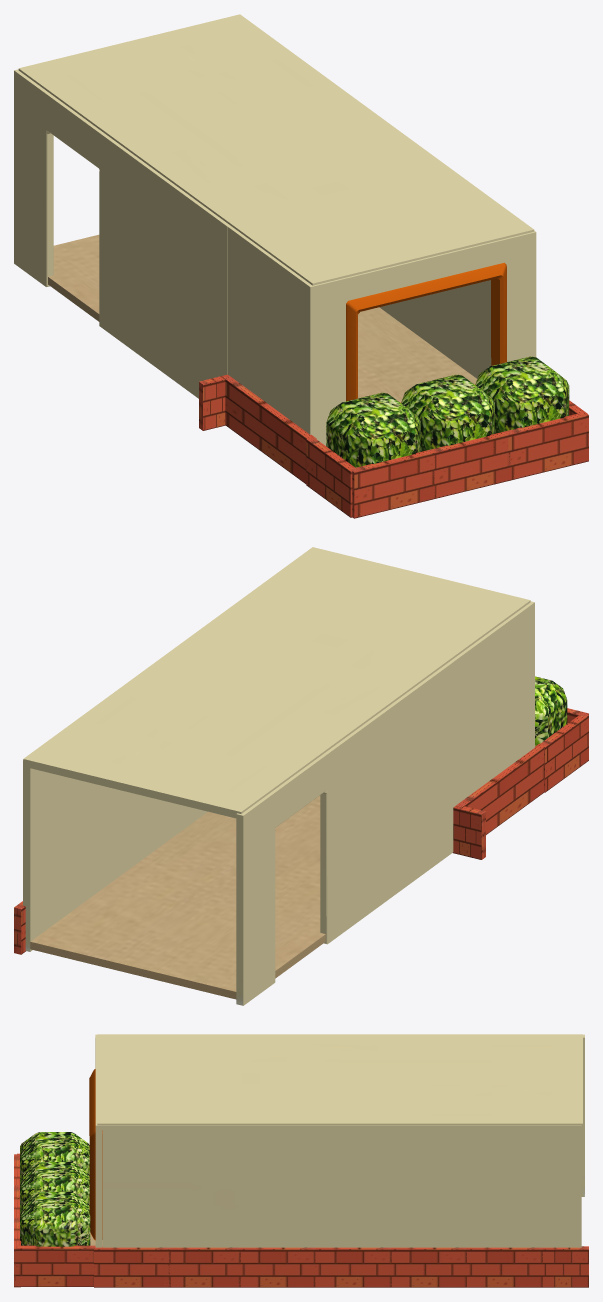
File: casa5.obj
The picture shows the model from 3 angles, top to bottom: view 1: azimuth 30°, elevation 25°; view 2: azimuth 150°, elevation 25°; view 3: azimuth 270°, elevation 25°; orthographic projection. The views are drawn at different scales.
Visible parts, largest first — view 1: pasted__pasted__pasted__pCube3 pasted__pasted__group8 pasted__gr, pasted__pasted__pCube2 pasted__group4 group6, pasted__pasted__pCube2 pasted__group4 group12, group100_pasted__group99_pasted__pasted__group95_pasted__pasted_, pasted__pasted__pCube2 pasted__group8 group11, polySurface50 pPlane2, group8 pasted__pasted__pCube2 pasted__group4, polySurface52, pasted__pCube15 group125, pCube15, pasted__pCube15 group124, pasted__pCube1 group8 (+1 smaller); view 2: pasted__pasted__pasted__pCube3 pasted__pasted__group8 pasted__gr, pasted__pasted__pCube2 pasted__group4 group6, polySurface50 pPlane2, group8 pasted__pasted__pCube2 pasted__group4, pasted__pasted__pCube2 pasted__group4 group12, polySurface52, polySurface47 pasted__group78_pasted__pasted__pCube11, pasted__pCube15 group125, pasted__group84_pasted__pCube11 group123 polySurface33; view 3: group8 pasted__pasted__pCube2 pasted__group4, pasted__pasted__pasted__pCube3 pasted__pasted__group8 pasted__gr, pasted__pCube15 group124, pasted__pasted__pasted__pCube11 pasted__pasted__group78 pasted__, polySurface39 pasted__group84_pasted__pCube11 group123, pasted__group84_pasted__pCube11 group123 polySurface36, pasted__group84_pasted__pCube11 group123 polySurface35, pasted__group84_pasted__pCube11 group123 polySurface37, pasted__group84_pasted__pCube11 group123 polySurface34, pasted__group84_pasted__pCube11 group123 polySurface38, pasted__pCube15 group125, pCube15 (+5 smaller).
Part boxes in pixels (x1,y1,x2,y2): pasted__pasted__pasted__pCube3 pasted__pasted__group8 pasted__gr: (18,14,534,285); pasted__pasted__pCube2 pasted__group4 group6: (14,69,229,398); pasted__pasted__pCube2 pasted__group4 group12: (227,225,317,439); group100_pasted__group99_pasted__pasted__group95_pasted__pasted_: (350,413,588,518); pasted__pasted__pCube2 pasted__group8 group11: (314,231,536,445); polySurface50 pPlane2: (48,234,477,402); group8 pasted__pasted__pCube2 pasted__group4: (379,280,491,378); polySurface52: (199,374,316,483); pasted__pCube15 group125: (326,392,420,467); pCube15: (401,374,494,451); pasted__pCube15 group124: (475,356,569,433); pasted__pCube1 group8: (346,262,506,402); pasted__pasted__pasted__pCube3 pasted__pasted__group8 pasted__gr: (23,547,530,818); pasted__pasted__pCube2 pasted__group4 group6: (236,661,453,1005); polySurface50 pPlane2: (30,795,325,999); group8 pasted__pasted__pCube2 pasted__group4: (23,760,207,951); pasted__pasted__pCube2 pasted__group4 group12: (450,601,534,807); polySurface52: (453,744,545,859); polySurface47 pasted__group78_pasted__pasted__pCube11: (538,714,588,792); pasted__pCube15 group125: (535,676,567,746); pasted__group84_pasted__pCube11 group123 polySurface33: (14,901,25,954); group8 pasted__pasted__pCube2 pasted__group4: (103,1125,581,1247); pasted__pasted__pasted__pCube3 pasted__pasted__group8 pasted__gr: (97,1034,582,1129); pasted__pCube15 group124: (20,1191,90,1246); pasted__pasted__pasted__pCube11 pasted__pasted__group78 pasted__: (16,1245,95,1286); polySurface39 pasted__group84_pasted__pCube11 group123: (94,1246,170,1287); pasted__group84_pasted__pCube11 group123 polySurface36: (315,1247,391,1287); pasted__group84_pasted__pCube11 group123 polySurface35: (390,1247,466,1287); pasted__group84_pasted__pCube11 group123 polySurface37: (238,1247,315,1287); pasted__group84_pasted__pCube11 group123 polySurface34: (466,1247,542,1287); pasted__group84_pasted__pCube11 group123 polySurface38: (164,1247,240,1287); pasted__pCube15 group125: (20,1132,89,1175); pCube15: (20,1162,89,1205).
Size of the model in its own units: 351 by 254 by 817.
Materials: 19 (19 with a texture image).
